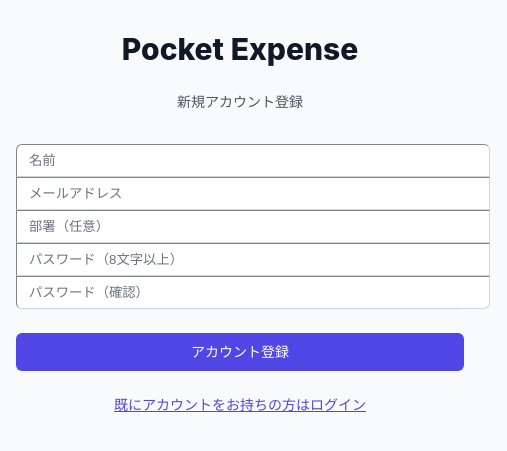
Test: Register › 登録が失敗するとエラーメッセージが表示されること
In the field with placeholder "名前": (253, 160) [16,144,490,177], type "テストユーザー"
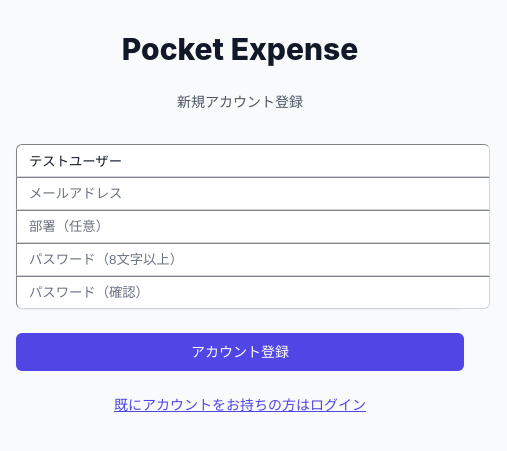
In the field with placeholder "メールアドレス": (253, 193) [16,177,490,210], type "existing@example.com"
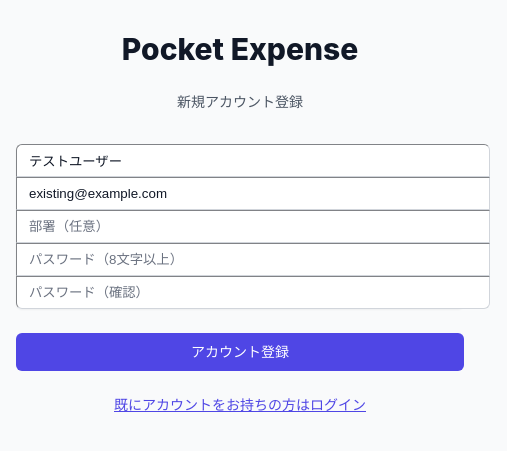
In the password field with placeholder "パスワード（8文字以上）": (253, 259) [16,243,490,276], type "password123"
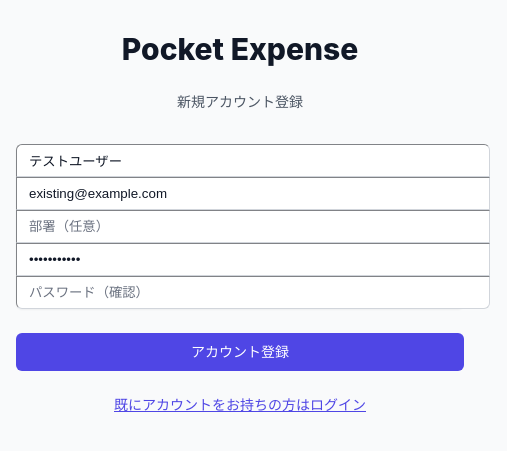
In the password field with placeholder "パスワード（確認）": (253, 292) [16,276,490,309], type "password123"
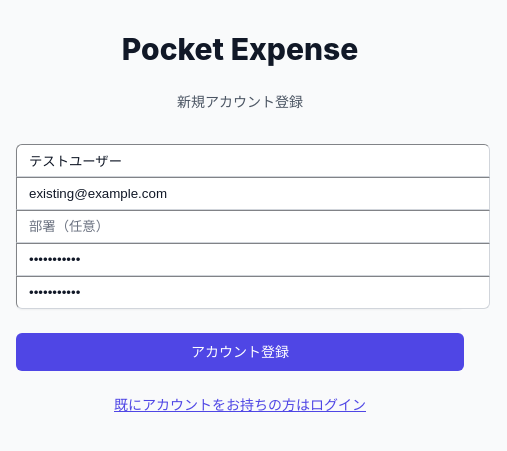
 フォームを送信
Click the button "アカウント登録": (240, 352) [16,333,464,371]
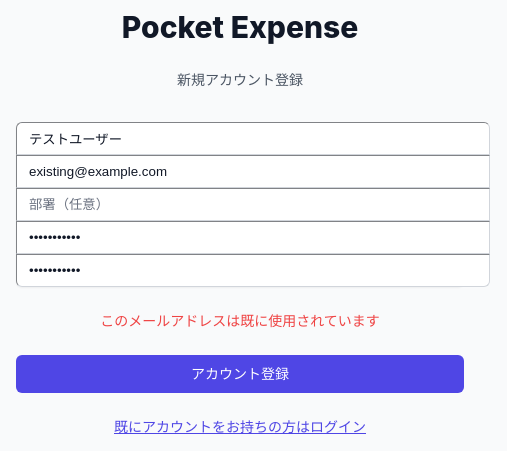
Check: the button reads "アカウント登録", box [16,355,464,393]
Check: the text "このメールアドレスは既に使用されています" is shown, box [100,312,380,329]
